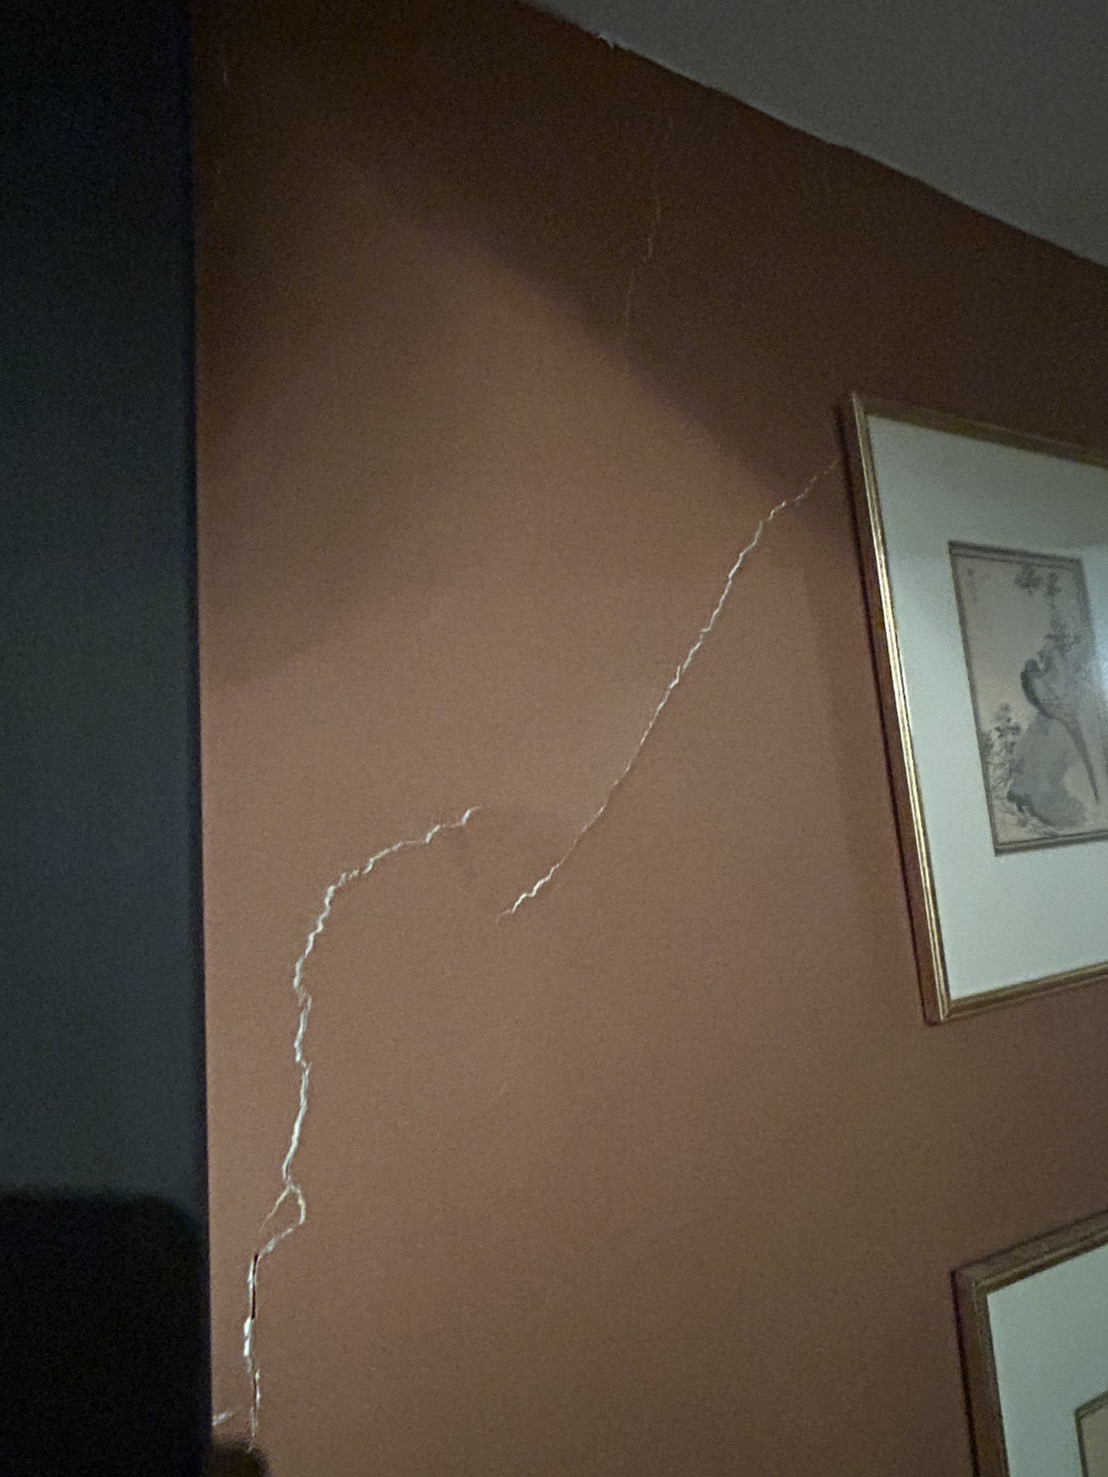Medium: (214, 786, 463, 1462)
